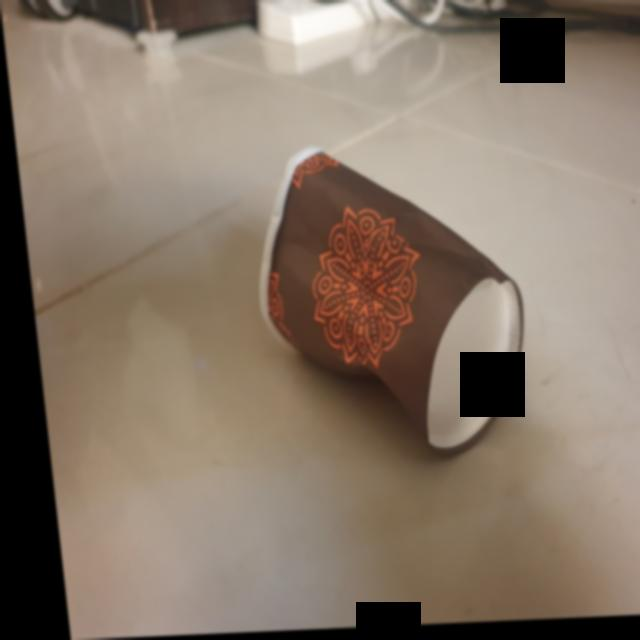cups: (232, 141, 533, 476)
